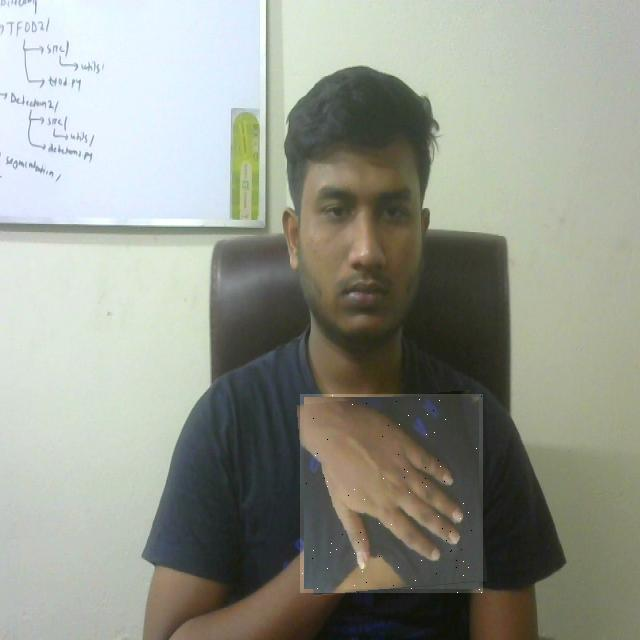Please: (300, 394, 483, 593)
